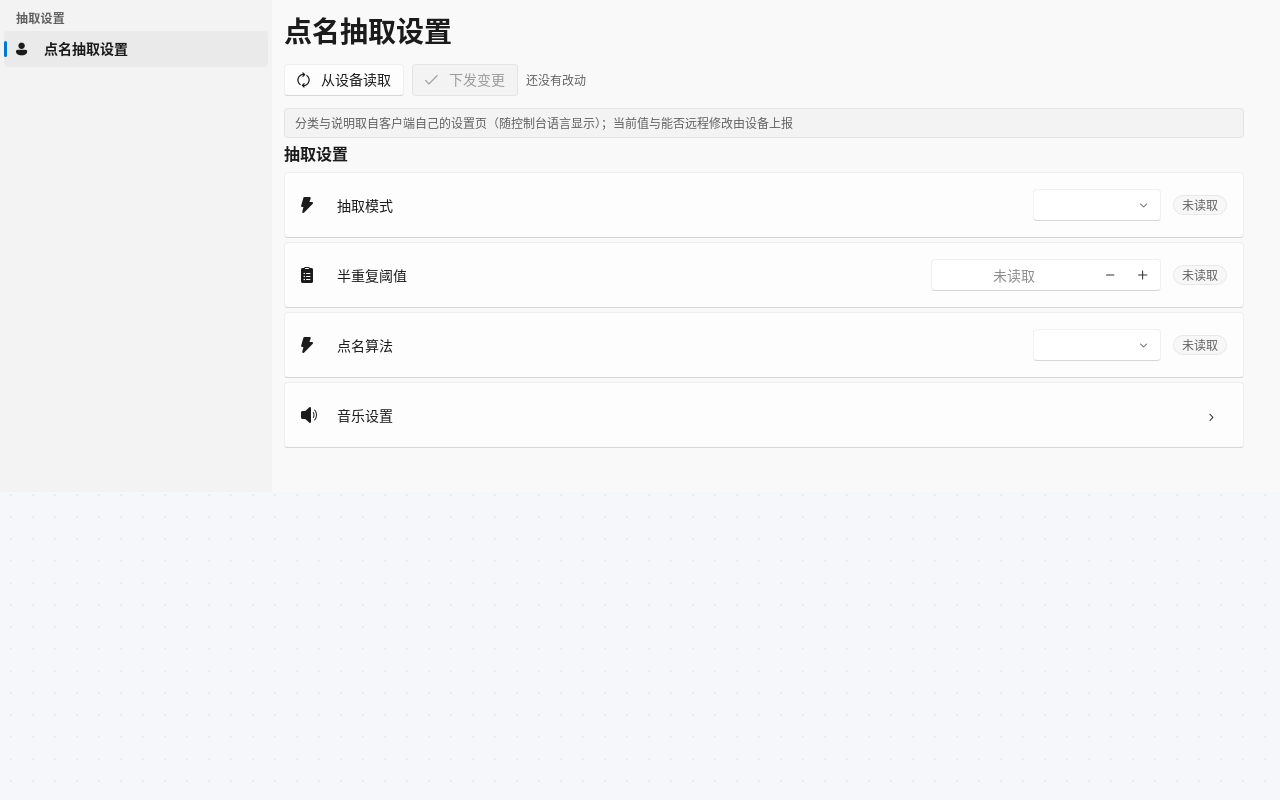
Test case: ClientSettingsPanel › 折叠分组容器：点开箭头后展开，子项就是普通的嵌套行（有控件、有未读标记）
The image size is (1280, 800).
Step 1. Click the button with test id "container-music-chevron" → (1211, 415), box [1195,399,1227,431]
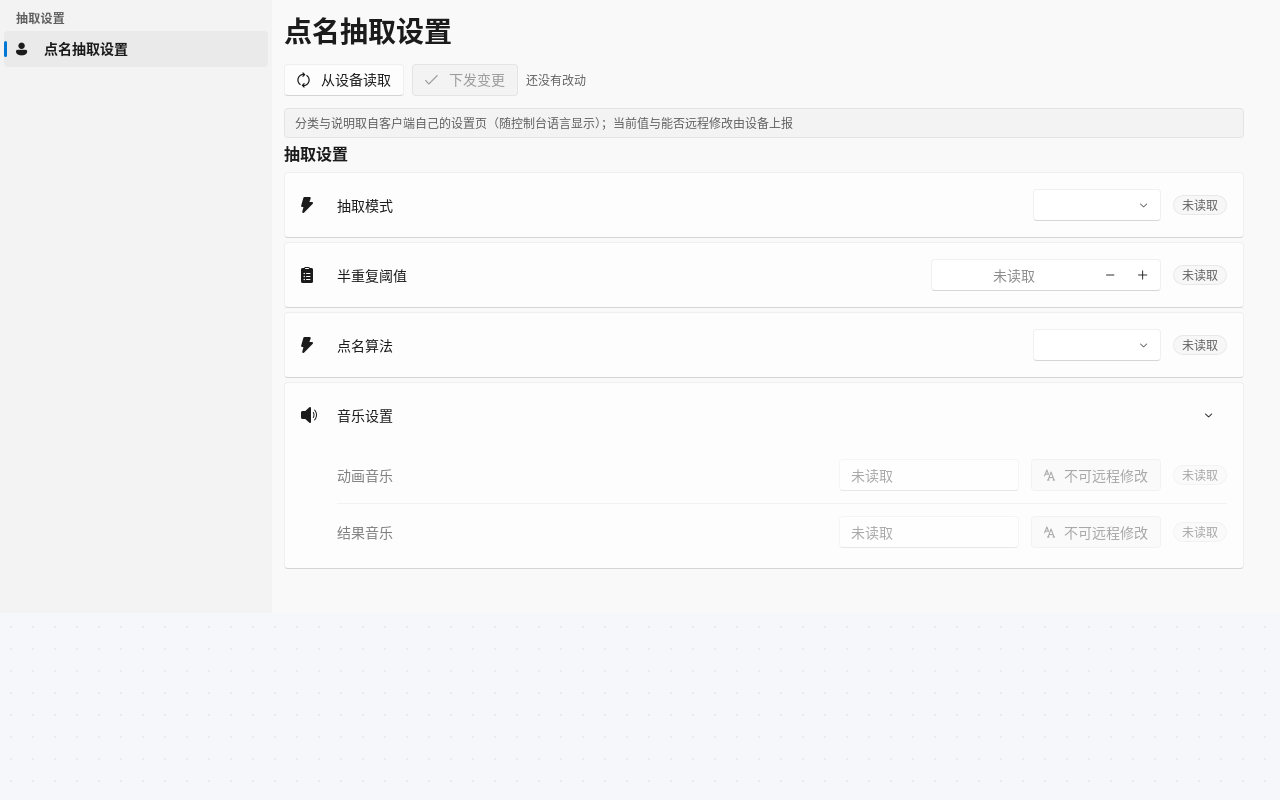
Expected: the element with test id "nested-roll_call.animation_music" shows "动画音乐", [337,465,393,485]
Expected: the text "未读取" in the row of "动画音乐" is shown, [1173,465,1227,485]
Expected: the field with test id "setting-roll_call.animation_music" is shown, [839,459,1019,491]
